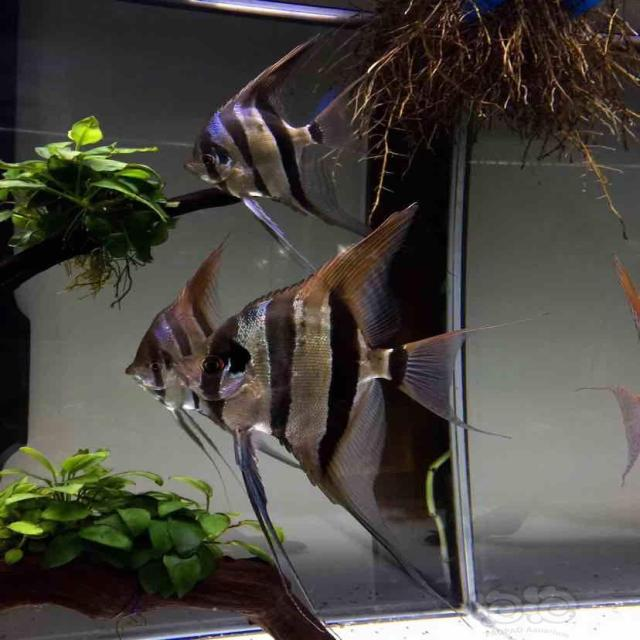AngelFish: (190, 198, 473, 619), (186, 36, 377, 238), (121, 244, 227, 452)
